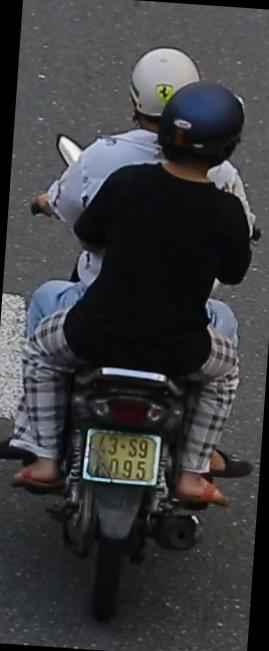LP: (80, 420, 166, 490)
helmet: (150, 74, 252, 192), (124, 39, 205, 125)
